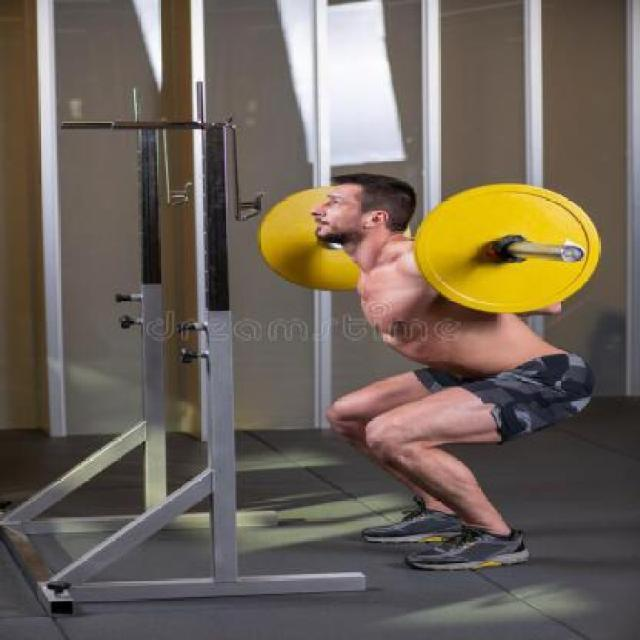barbell: (404, 173, 609, 320)
